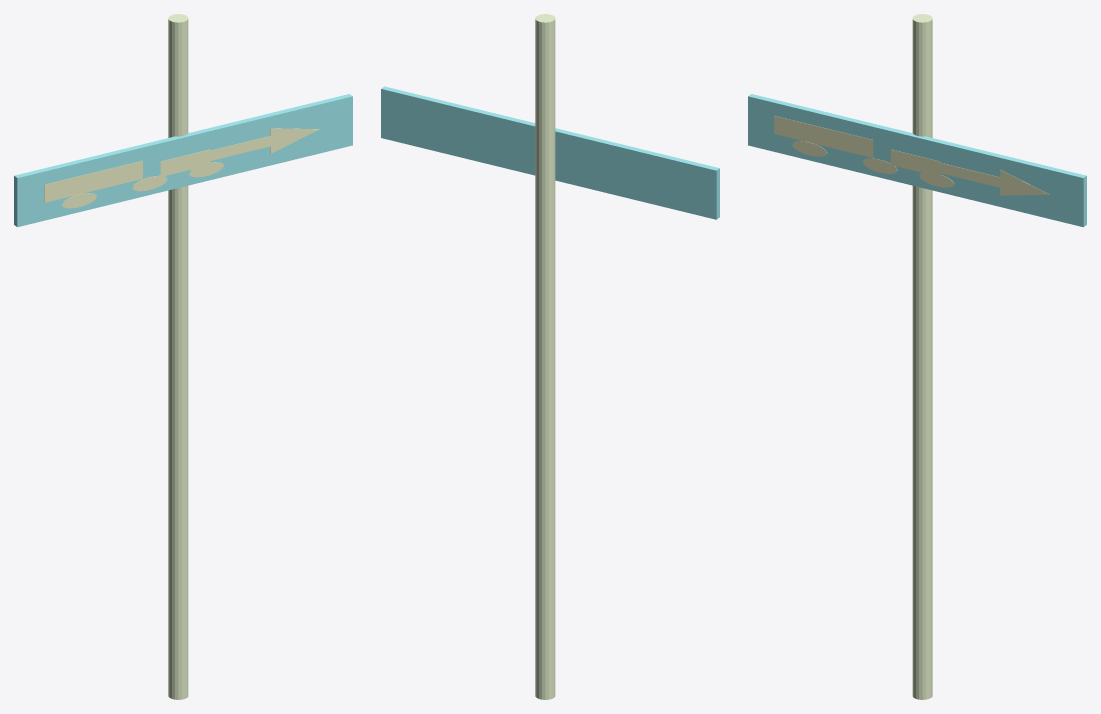
File: sign_truck_route_right.glb
The picture shows the model from 3 angles, left to right: view 1: azimuth 30°, elevation 25°; view 2: azimuth 150°, elevation 25°; view 3: azimuth 330°, elevation 25°; orthographic projection.
Parts seen in each view (by area): view 1: plate_base_00, pole, layer_1_00, layer_1_01, layer_1_06, layer_1_07; view 2: plate_base_00, pole; view 3: plate_base_00, pole, layer_1_00, layer_1_01, layer_1_06, layer_1_07.
Boxes of the visible parts, x1=… form: plate_base_00: x1=14, y1=94, x2=352, y2=227; pole: x1=168, y1=14, x2=188, y2=699; layer_1_00: x1=44, y1=160, x2=142, y2=202; layer_1_01: x1=160, y1=149, x2=210, y2=176; layer_1_06: x1=192, y1=136, x2=270, y2=164; layer_1_07: x1=270, y1=128, x2=319, y2=153; plate_base_00: x1=381, y1=86, x2=719, y2=219; pole: x1=535, y1=14, x2=555, y2=699; plate_base_00: x1=748, y1=94, x2=1086, y2=227; pole: x1=912, y1=14, x2=932, y2=699; layer_1_00: x1=774, y1=116, x2=873, y2=157; layer_1_01: x1=890, y1=149, x2=940, y2=176; layer_1_06: x1=922, y1=161, x2=1000, y2=187; layer_1_07: x1=1000, y1=170, x2=1049, y2=195.
Size of the model in its own units: 1.14 by 2.2 by 0.071.
